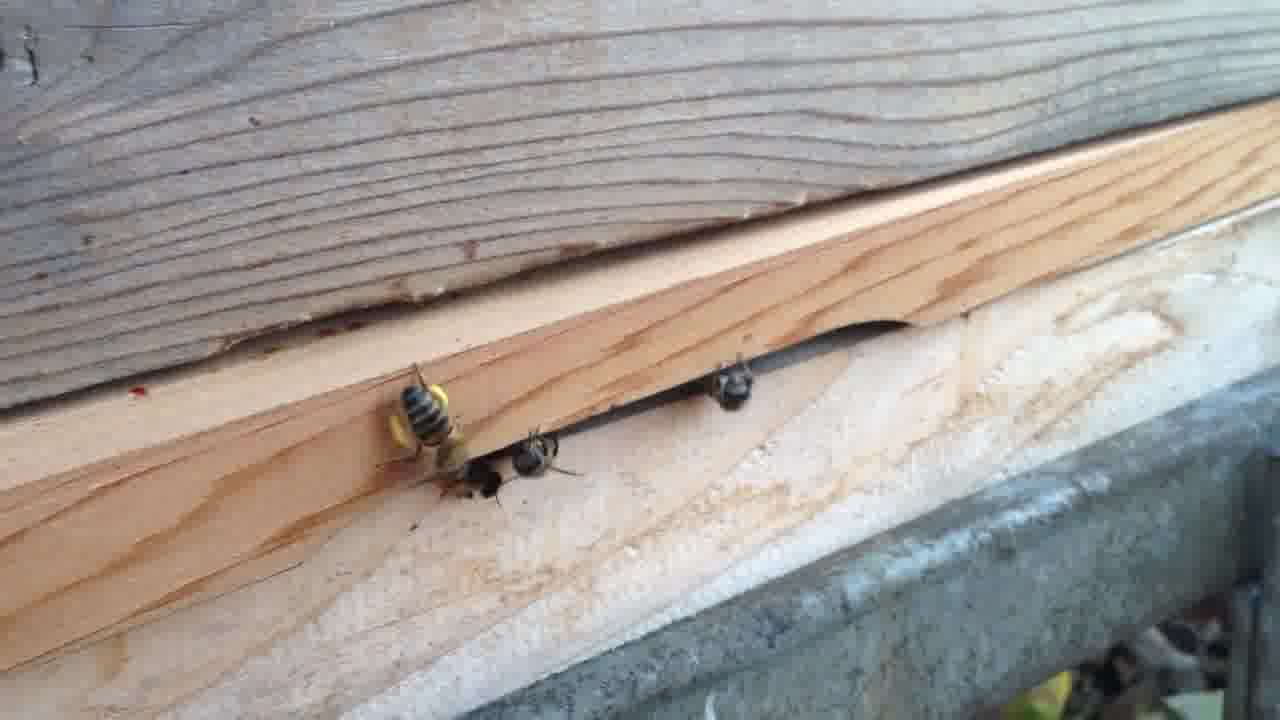pollen: (368, 370, 477, 481)
